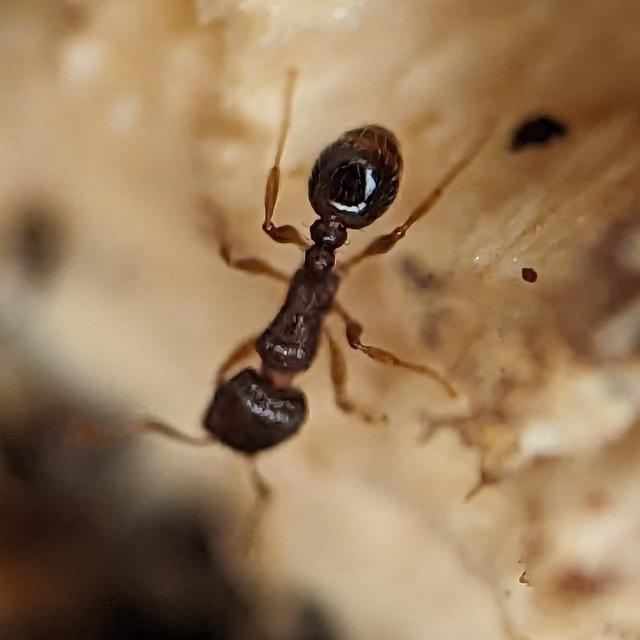Tetramorium: (155, 101, 489, 488)
